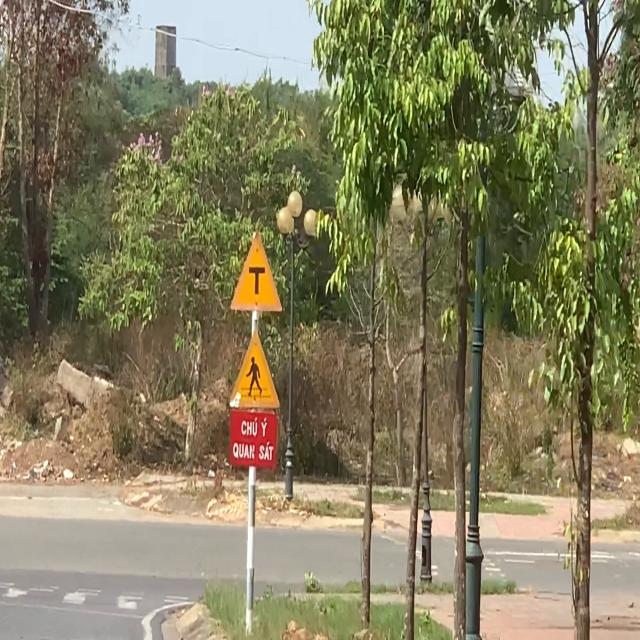Duong giao nhau: (226, 222, 286, 318)
Nguoi di bo cat ngang: (225, 322, 282, 412)
